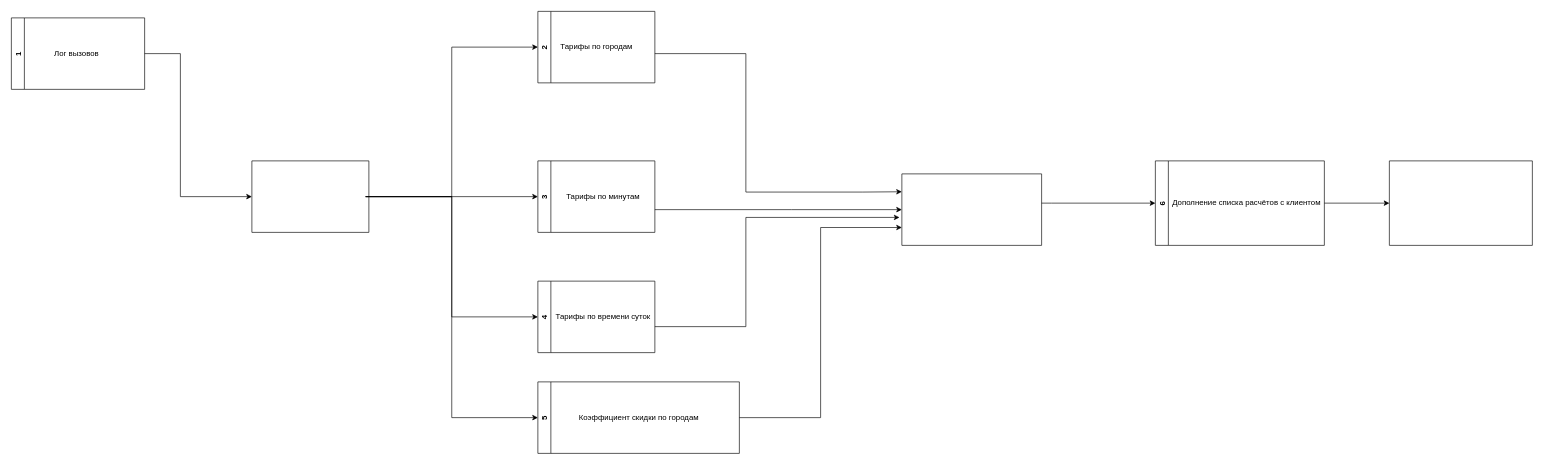
Image size: 1544x465. Some labels were removed from this diagram. Each missing label, with the centre of its shape:
Анализ лога по параметрам: (x=310, y=196)
Вычисление стоимости вызова с учётом дисконта: (x=971, y=209)
Списание средств: (x=1460, y=202)
